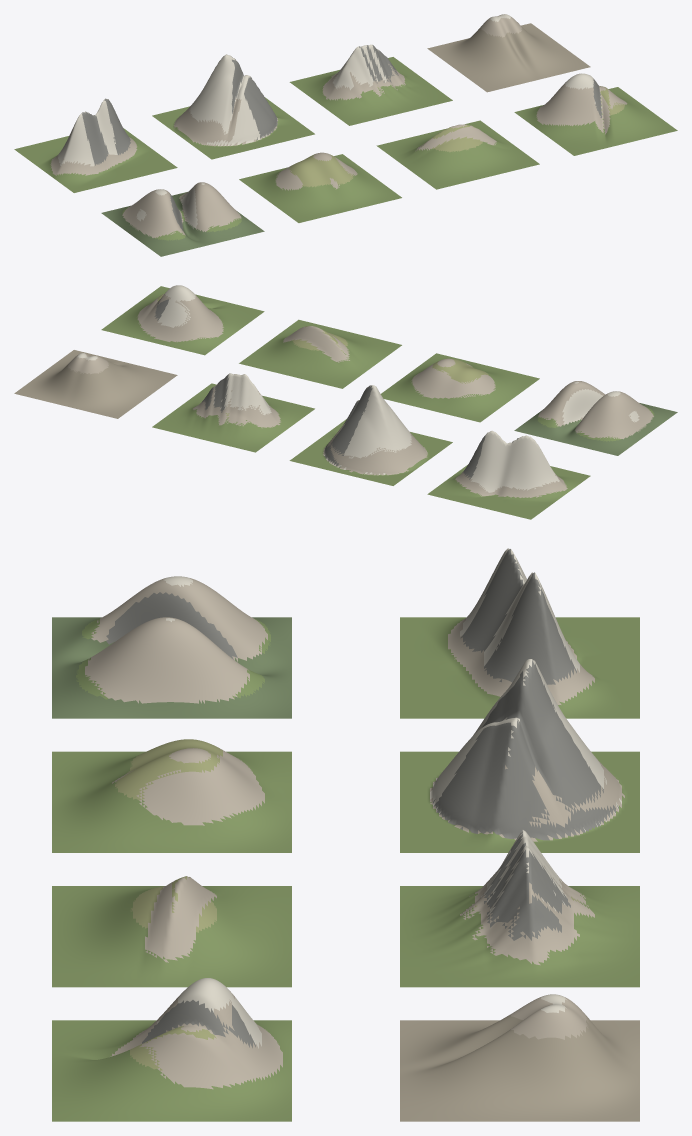
File: geological-forms.glb
The picture shows the model from 3 angles, top to bottom: view 1: azimuth 30°, elevation 25°; view 2: azimuth 150°, elevation 25°; view 3: azimuth 270°, elevation 25°; orthographic projection. The views are drawn at different scales.
Visible parts, largest first — view 1: terrain-summit, terrain-ridge, terrain-slope, terrain-outcrop, terrain-scree, terrain-gorge, terrain-foothills, terrain-rock-shelf; view 2: terrain-ridge, terrain-summit, terrain-outcrop, terrain-gorge, terrain-slope, terrain-rock-shelf, terrain-scree, terrain-foothills; view 3: terrain-summit, terrain-gorge, terrain-slope, terrain-outcrop, terrain-scree, terrain-ridge, terrain-foothills, terrain-rock-shelf.
Part boxes in pixels (left/top/right/bottom): terrain-summit: left=152, top=54, right=314, bottom=159; terrain-ridge: left=14, top=98, right=177, bottom=192; terrain-slope: left=514, top=73, right=677, bottom=155; terrain-outcrop: left=289, top=44, right=452, bottom=125; terrain-scree: left=427, top=14, right=590, bottom=92; terrain-gorge: left=101, top=182, right=264, bottom=256; terrain-foothills: left=239, top=152, right=401, bottom=222; terrain-rock-shelf: left=376, top=120, right=539, bottom=189; terrain-ridge: left=427, top=430, right=590, bottom=519; terrain-summit: left=289, top=385, right=452, bottom=485; terrain-outcrop: left=152, top=373, right=314, bottom=452; terrain-gorge: left=514, top=381, right=677, bottom=455; terrain-slope: left=101, top=285, right=264, bottom=355; terrain-rock-shelf: left=239, top=319, right=401, bottom=388; terrain-scree: left=14, top=350, right=177, bottom=418; terrain-foothills: left=381, top=353, right=539, bottom=422; terrain-summit: left=400, top=659, right=639, bottom=852; terrain-gorge: left=52, top=576, right=291, bottom=718; terrain-slope: left=52, top=978, right=291, bottom=1121; terrain-outcrop: left=400, top=830, right=639, bottom=987; terrain-scree: left=400, top=994, right=639, bottom=1121; terrain-ridge: left=400, top=548, right=639, bottom=718; terrain-foothills: left=52, top=739, right=291, bottom=852; terrain-rock-shelf: left=52, top=876, right=291, bottom=987.
Size of the model in its own units: 9.95 by 1.28 by 4.9.
